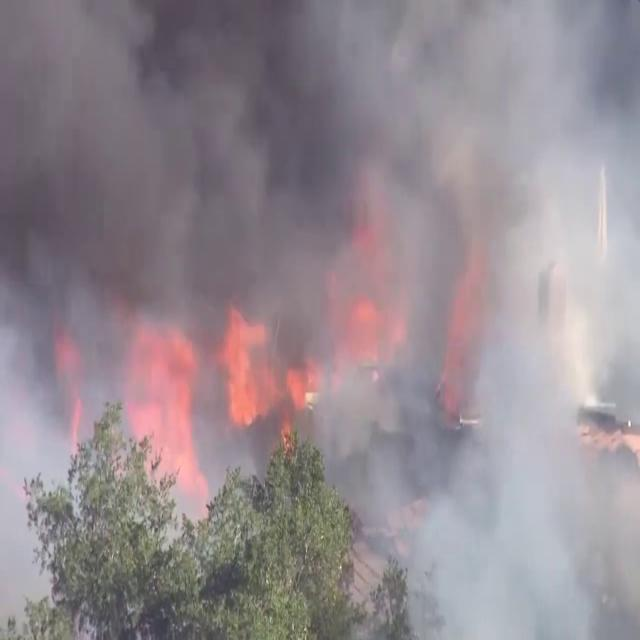Fire: (215, 290, 271, 436)
Smoke: (2, 0, 639, 637)
